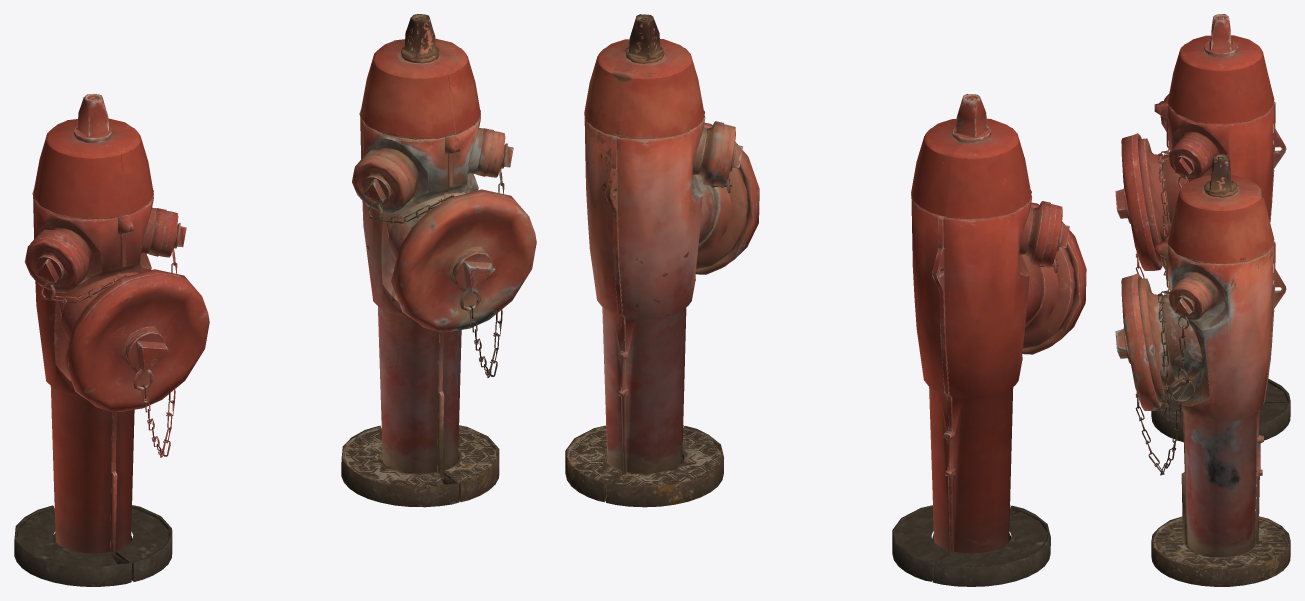
File: fire_hydrant.glb
The picture shows the model from 3 angles, left to right: view 1: azimuth 30°, elevation 25°; view 2: azimuth 150°, elevation 25°; view 3: azimuth 270°, elevation 25°; orthographic projection. The views are drawn at different scales.
Parts seen in each view (by area): view 1: fire_hydrant_aged, fire_hydrant, fire_hydrant_cap_01_aged, fire_hydrant_cap_01, fire_hydrant_cap_03_aged, fire_hydrant_cap_03, fire_hydrant_chain, fire_hydrant_chain_aged, fire_hydrant_cap_02, fire_hydrant_cap_02_aged; view 2: fire_hydrant, fire_hydrant_aged, fire_hydrant_cap_01_aged, fire_hydrant_cap_01, fire_hydrant_cap_03_aged, fire_hydrant_cap_03; view 3: fire_hydrant_aged, fire_hydrant, fire_hydrant_cap_01, fire_hydrant_cap_01_aged, fire_hydrant_chain_aged, fire_hydrant_cap_02_aged, fire_hydrant_cap_02, fire_hydrant_chain.
Part boxes in pixels (x1,y1,x2,y2): fire_hydrant_aged: (341,14,499,507); fire_hydrant: (14,93,172,586); fire_hydrant_cap_01_aged: (391,189,536,332); fire_hydrant_cap_01: (64,269,209,411); fire_hydrant_cap_03_aged: (352,155,410,213); fire_hydrant_cap_03: (24,235,83,292); fire_hydrant_chain: (40,225,178,457); fire_hydrant_chain_aged: (366,145,505,377); fire_hydrant_cap_02: (158,211,186,257); fire_hydrant_cap_02_aged: (485,131,513,177); fire_hydrant: (892,94,1075,586); fire_hydrant_aged: (565,14,748,507); fire_hydrant_cap_01_aged: (695,123,759,274); fire_hydrant_cap_01: (1022,202,1086,354); fire_hydrant_cap_03_aged: (713,124,742,186); fire_hydrant_cap_03: (1040,204,1069,266); fire_hydrant_aged: (1138,154,1290,586); fire_hydrant: (1138,14,1290,441); fire_hydrant_cap_01: (1115,133,1162,270); fire_hydrant_cap_01_aged: (1115,273,1162,410); fire_hydrant_chain_aged: (1135,289,1195,475); fire_hydrant_cap_02_aged: (1168,281,1208,320); fire_hydrant_cap_02: (1168,141,1208,180); fire_hydrant_chain: (1135,149,1194,279).
Size of the model in its own units: 0.8745 by 0.8003 by 0.3173.
Materials: 2 (2 with a texture image).
